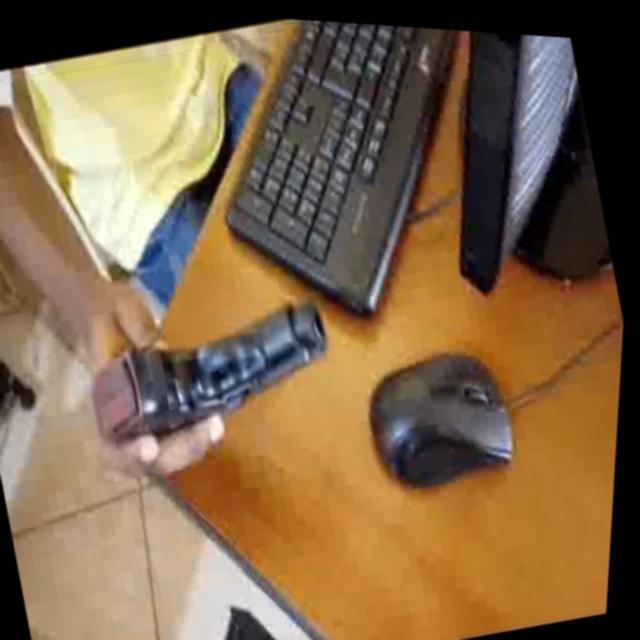weapon: (80, 278, 350, 461)
